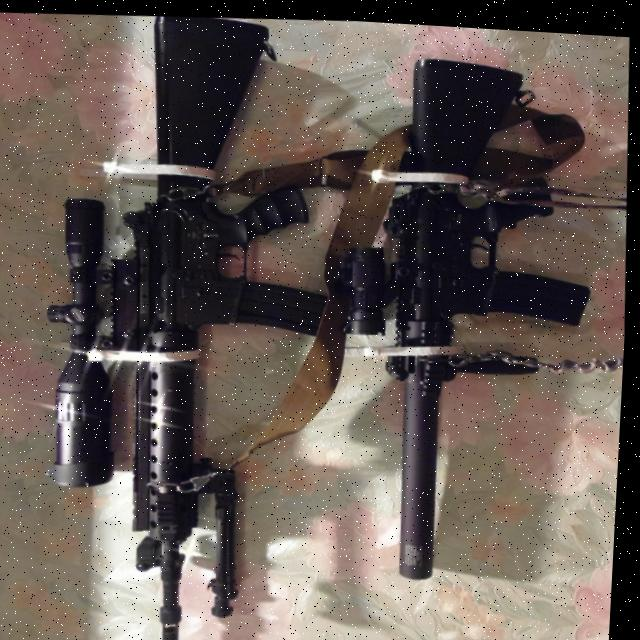firearm: (22, 2, 371, 640), (319, 38, 612, 582)
